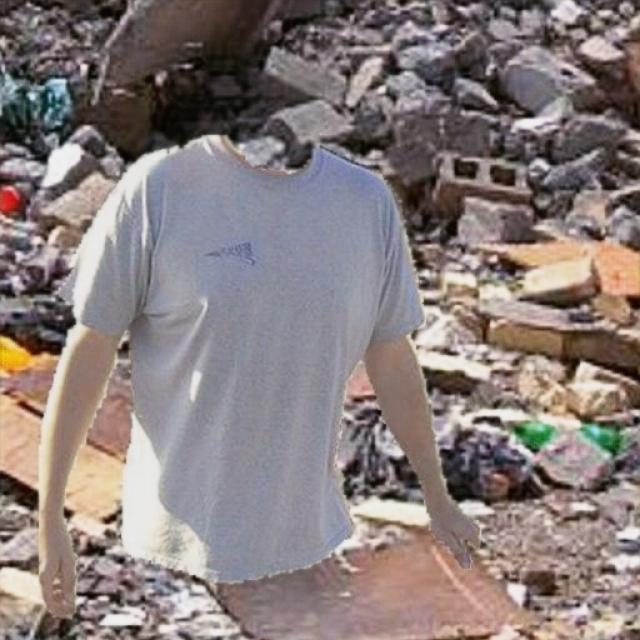Person in Rubble: (39, 135, 482, 619)
